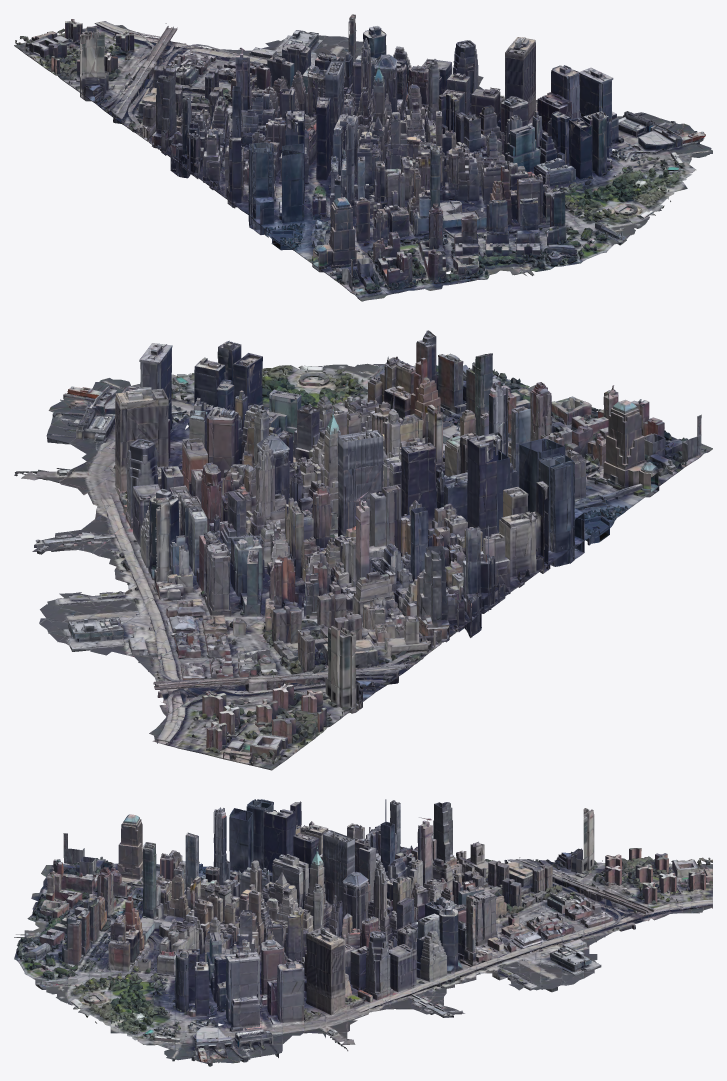
The model's file is manhattan_optimized.glb.
The picture shows the model from 3 angles, top to bottom: view 1: azimuth 30°, elevation 25°; view 2: azimuth 150°, elevation 25°; view 3: azimuth 270°, elevation 25°; orthographic projection. The views are drawn at different scales.
Visible parts, largest first — view 1: Object_4, Object_3, Object_9, Object_8, Object_6, Object_7, Object_10, Object_5, Object_11, Object_15, Object_14, Object_16 (+2 smaller); view 2: Object_9, Object_3, Object_4, Object_8, Object_6, Object_7, Object_5, Object_11, Object_10, Object_15, Object_16, Object_12 (+2 smaller); view 3: Object_3, Object_4, Object_9, Object_5, Object_10, Object_8, Object_11, Object_6, Object_7, Object_15, Object_16, Object_13 (+2 smaller).
Boxes of the visible parts, x1=… form: Object_4: x1=14, y1=21, x2=679, y2=301; Object_3: x1=118, y1=30, x2=712, y2=281; Object_9: x1=171, y1=14, x2=618, y2=209; Object_8: x1=77, y1=26, x2=612, y2=251; Object_6: x1=133, y1=32, x2=641, y2=256; Object_7: x1=305, y1=55, x2=602, y2=208; Object_10: x1=231, y1=48, x2=612, y2=224; Object_5: x1=71, y1=19, x2=612, y2=290; Object_11: x1=72, y1=17, x2=534, y2=276; Object_15: x1=36, y1=40, x2=520, y2=237; Object_14: x1=202, y1=103, x2=570, y2=246; Object_16: x1=59, y1=65, x2=555, y2=250; Object_9: x1=39, y1=343, x2=584, y2=622; Object_3: x1=14, y1=356, x2=585, y2=709; Object_4: x1=53, y1=365, x2=712, y2=770; Object_8: x1=127, y1=340, x2=656, y2=699; Object_6: x1=157, y1=330, x2=598, y2=727; Object_7: x1=146, y1=342, x2=475, y2=574; Object_5: x1=102, y1=394, x2=670, y2=754; Object_11: x1=138, y1=373, x2=701, y2=727; Object_10: x1=122, y1=348, x2=564, y2=581; Object_15: x1=191, y1=407, x2=556, y2=748; Object_16: x1=81, y1=376, x2=527, y2=726; Object_12: x1=109, y1=431, x2=460, y2=637; Object_3: x1=14, y1=881, x2=626, y2=1066; Object_4: x1=24, y1=848, x2=712, y2=1032; Object_9: x1=142, y1=799, x2=571, y2=1013; Object_5: x1=31, y1=859, x2=712, y2=1032; Object_10: x1=110, y1=832, x2=411, y2=1007; Object_8: x1=115, y1=801, x2=621, y2=1013; Object_11: x1=47, y1=802, x2=702, y2=984; Object_6: x1=66, y1=823, x2=699, y2=1032; Object_7: x1=116, y1=867, x2=454, y2=991; Object_15: x1=110, y1=848, x2=669, y2=983; Object_16: x1=81, y1=862, x2=626, y2=1009; Object_13: x1=153, y1=874, x2=397, y2=1033.
Bounding box in the file's own units: 8.07 × 2.23 × 11.93.
1 material, 1 textured.
